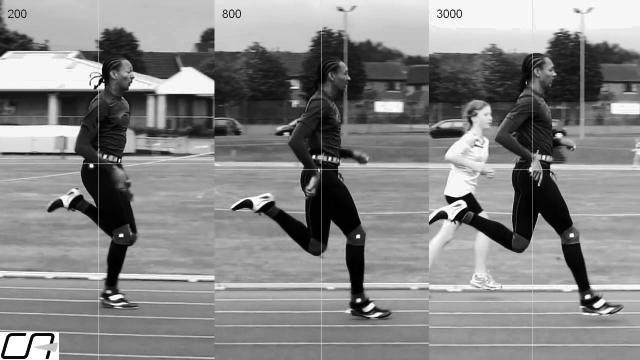berlari: (432, 51, 624, 324), (227, 54, 396, 326), (38, 49, 150, 318)
